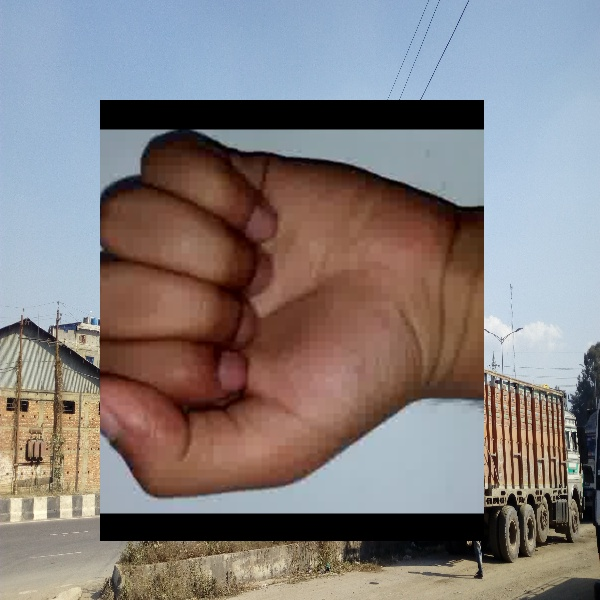A: (100, 100, 484, 541)
